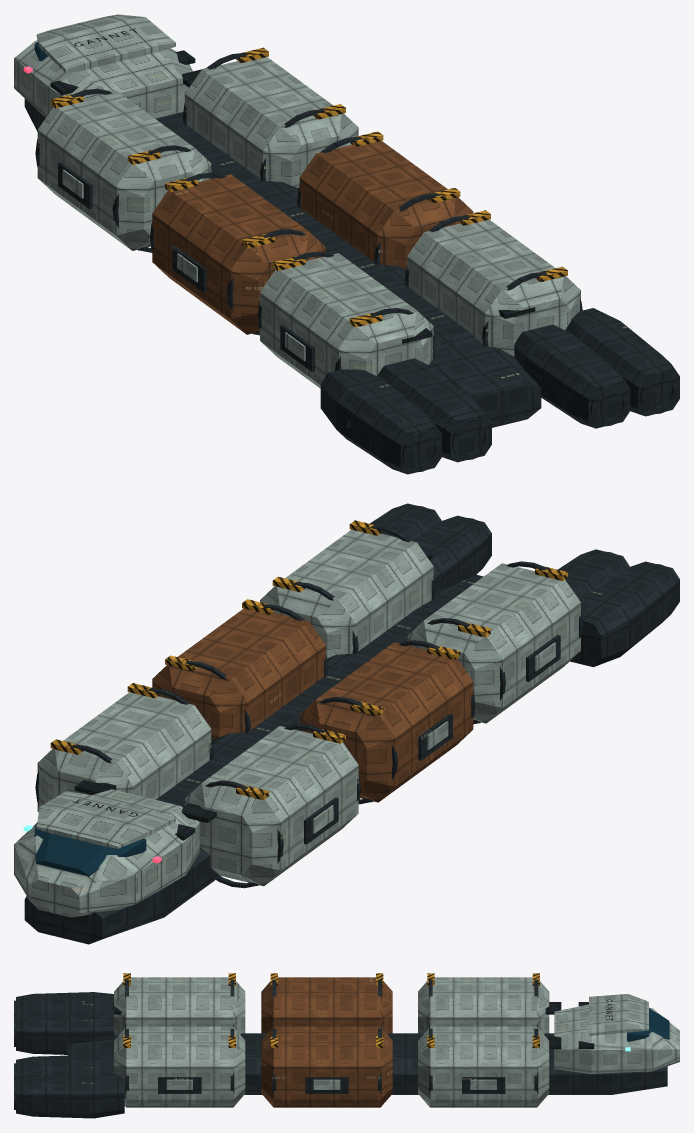
Rendered from ship_gannet.glb.
3 renders of one model, top to bottom at view 1: azimuth 30°, elevation 25°; view 2: azimuth 150°, elevation 25°; view 3: azimuth 270°, elevation 25°, orthographic. The views are drawn at different scales.
Visible parts, largest first — view 1: Cream, Frame, Bronze, Safety, Thermal; view 2: Cream, Frame, Bronze, Safety, Glass, Thermal; view 3: Cream, Frame, Bronze, Safety, Glass, Thermal.
Boxes of the visible parts, x1,y1,x2,y2 form: Cream: [14, 14, 580, 388]; Frame: [24, 52, 679, 474]; Bronze: [152, 141, 473, 334]; Safety: [50, 47, 567, 327]; Thermal: [50, 50, 535, 343]; Cream: [14, 529, 580, 917]; Frame: [24, 503, 679, 944]; Bronze: [152, 608, 473, 802]; Safety: [50, 520, 567, 799]; Glass: [34, 822, 146, 876]; Thermal: [74, 552, 432, 840]; Cream: [114, 977, 679, 1107]; Frame: [14, 979, 667, 1118]; Bronze: [261, 977, 392, 1107]; Safety: [123, 973, 539, 1047]; Glass: [627, 1008, 669, 1041]; Thermal: [113, 1002, 594, 1049].
Size of the model in its own units: 15.26 by 5.35 by 43.41.
Materials: 9 (7 with a texture image).
